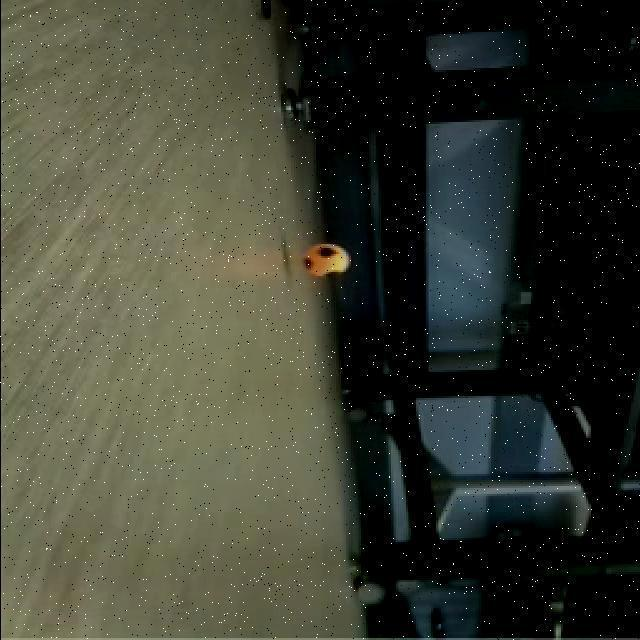ping-pong-ball: (292, 240, 353, 284)
